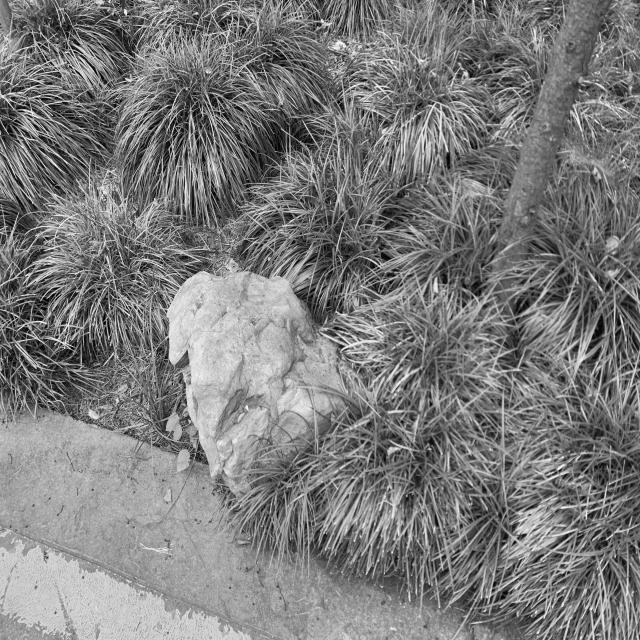Stone: (168, 271, 342, 493)
